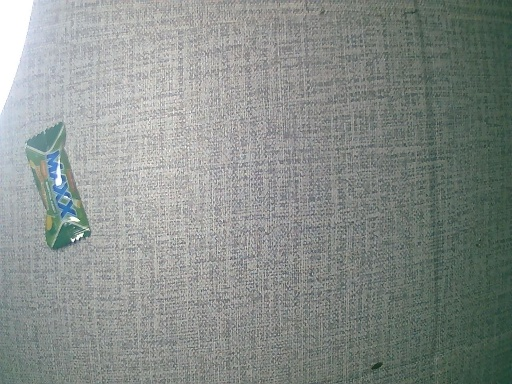plastic: (21, 123, 96, 254)
